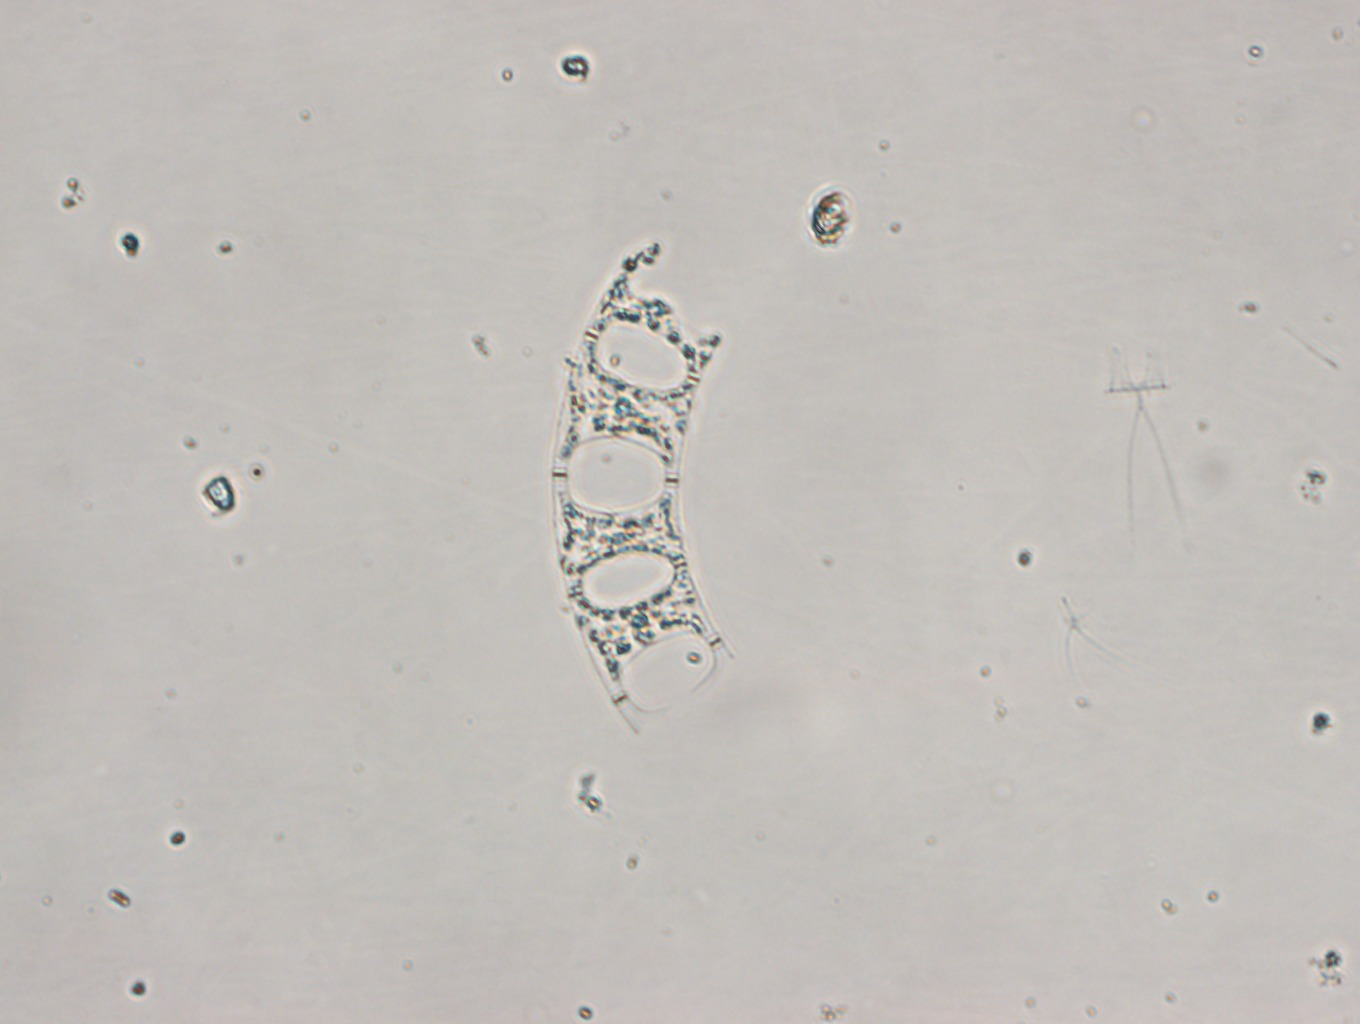chaetoceros: (1100, 340, 1191, 561)
eucampia: (548, 233, 740, 730)
